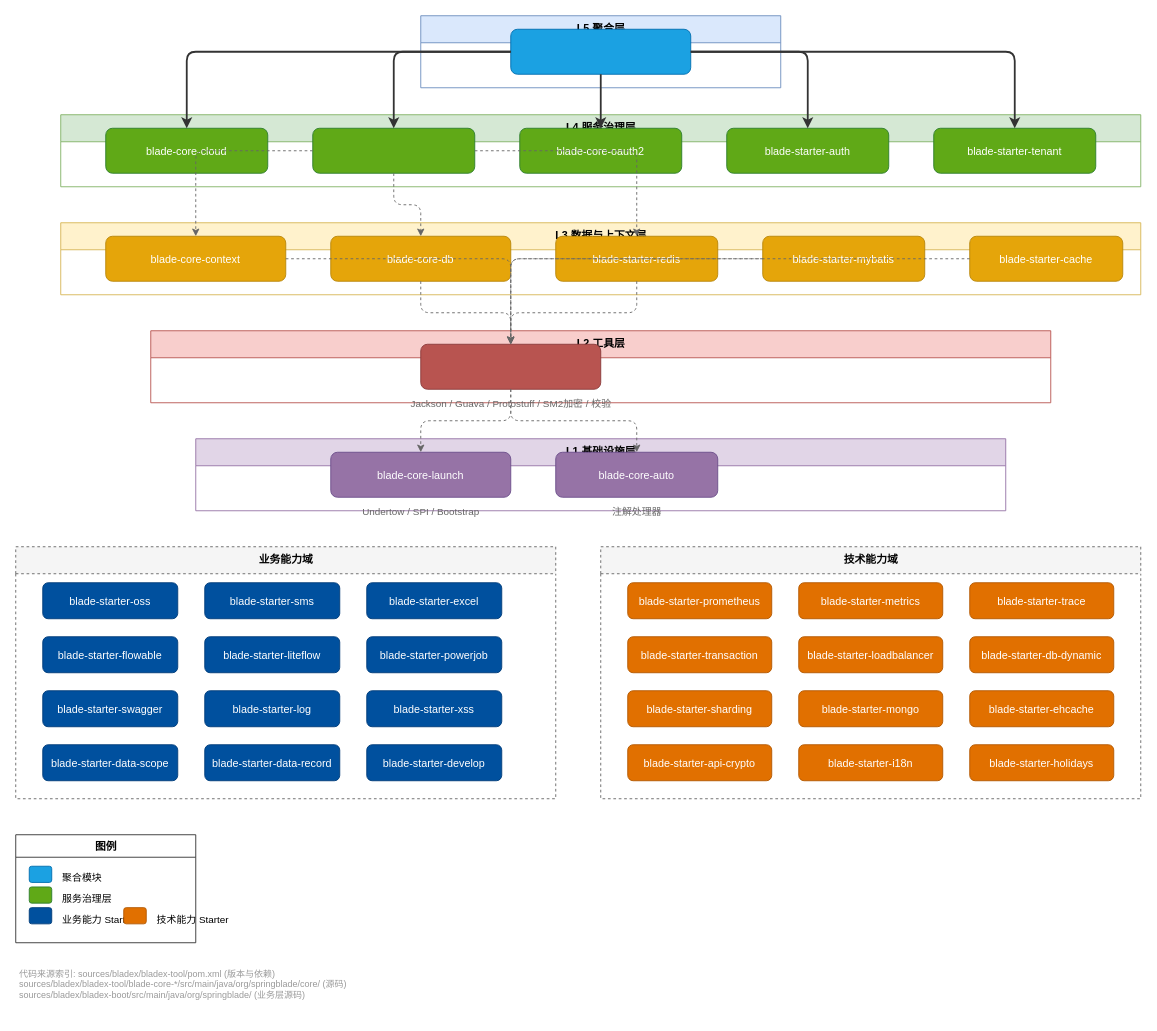
Image size: 1157x1031. Some labels were removed from this diagram. The centre of each missing label's shape, as x and y in pixels:
"blade-core-boot" goes at [600,51].
"blade-core-secure" goes at [393,150].
"blade-core-tool" goes at [510,366].
